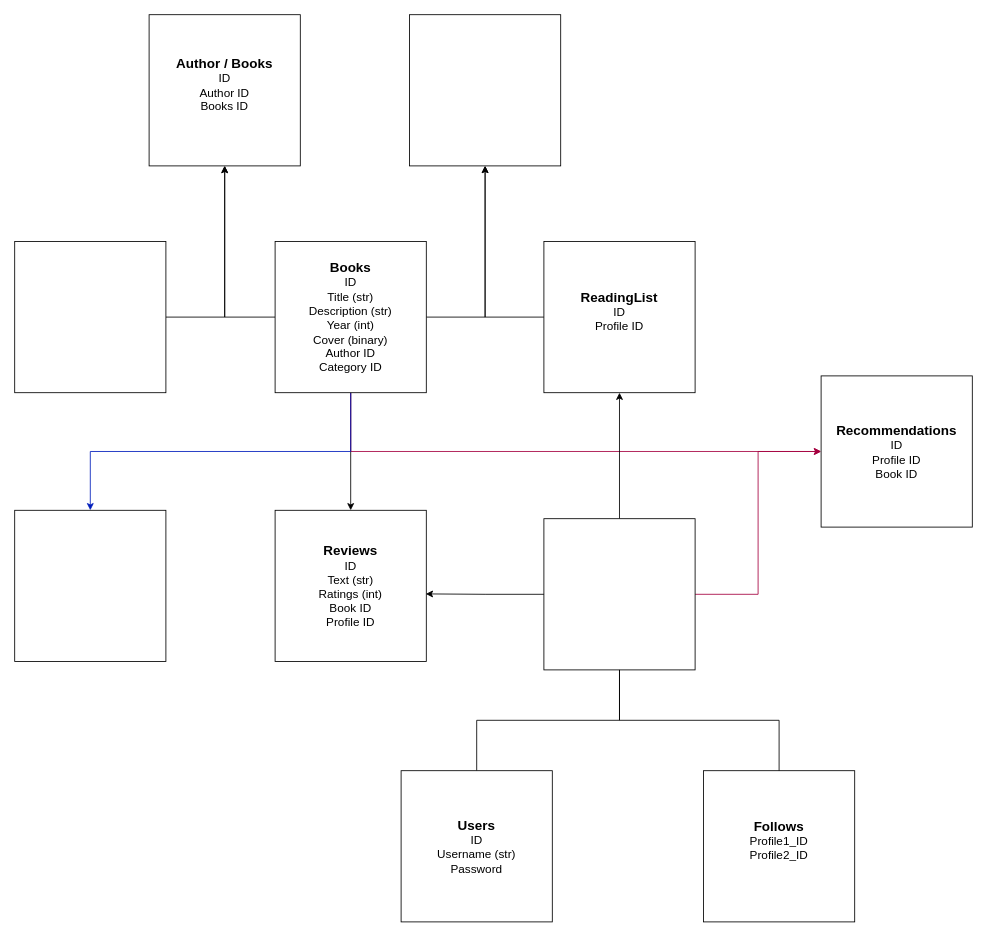
This 987x937 diagram has some shape labels left out. The centre of each missing label's shape, as x and y in pixels:
"Author ID Name (str)" goes at point 90,317.
"Books / ReadingList ID ReadingList ID Books ID" goes at point 485,90.
"Category ID Type (str)" goes at point 90,585.
"Profile ID User ID Name (str) Avatar (binary) Meta Lectura (int) ???" goes at point 619,594.
